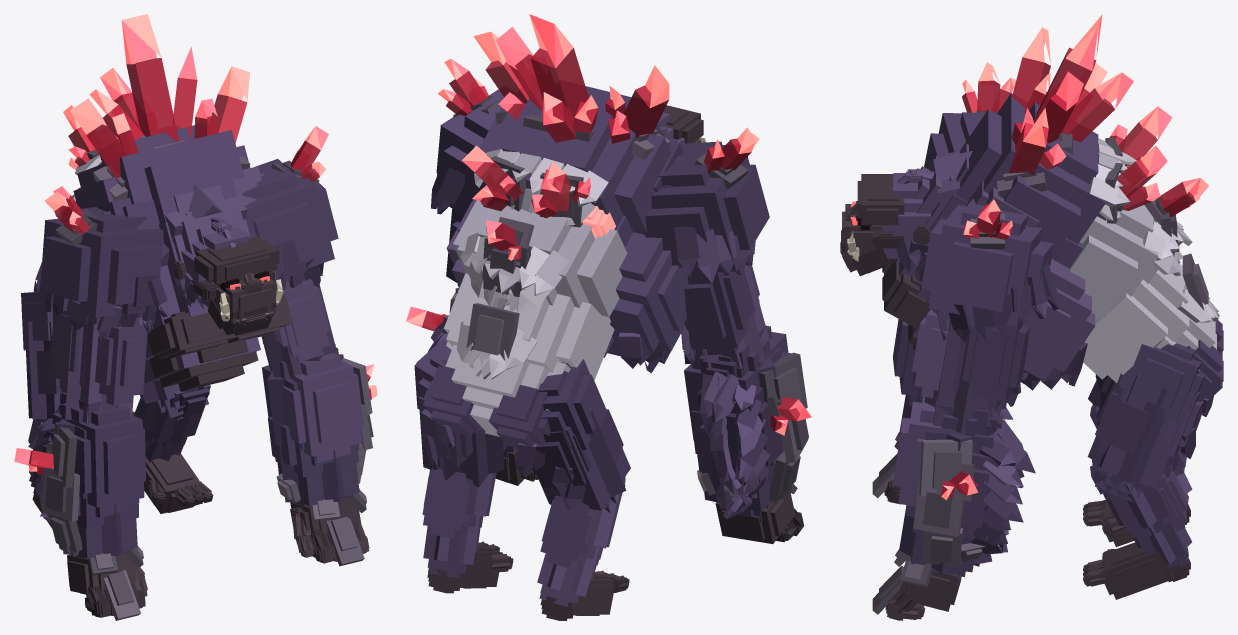
3 renders of one model, left to right at view 1: azimuth 30°, elevation 25°; view 2: azimuth 150°, elevation 25°; view 3: azimuth 270°, elevation 25°, orthographic. The views are drawn at different scales.
Visible parts, largest first — view 1: RiftBrute; view 2: RiftBrute; view 3: RiftBrute.
Boxes of the visible parts, <box> form: RiftBrute: <box>14,14,377,620</box>; RiftBrute: <box>406,14,811,620</box>; RiftBrute: <box>840,14,1223,620</box>.
Size of the model in its own units: 1.23 by 1.68 by 1.07.
